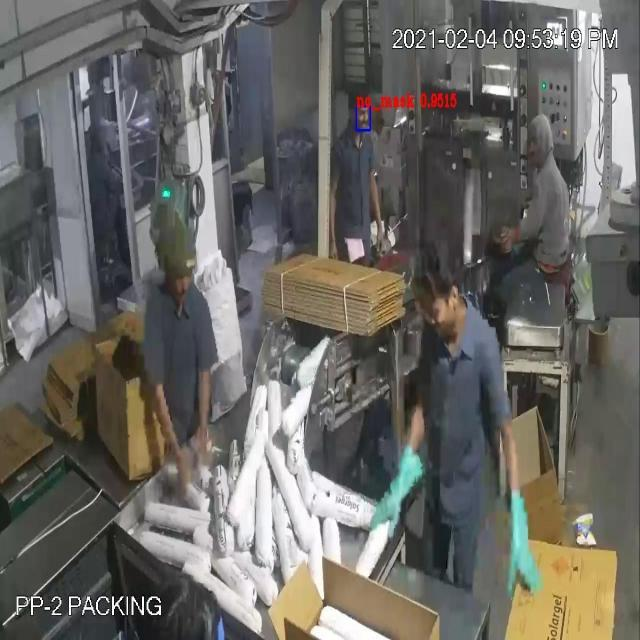No_Gloves: (24, 56, 521, 546)
